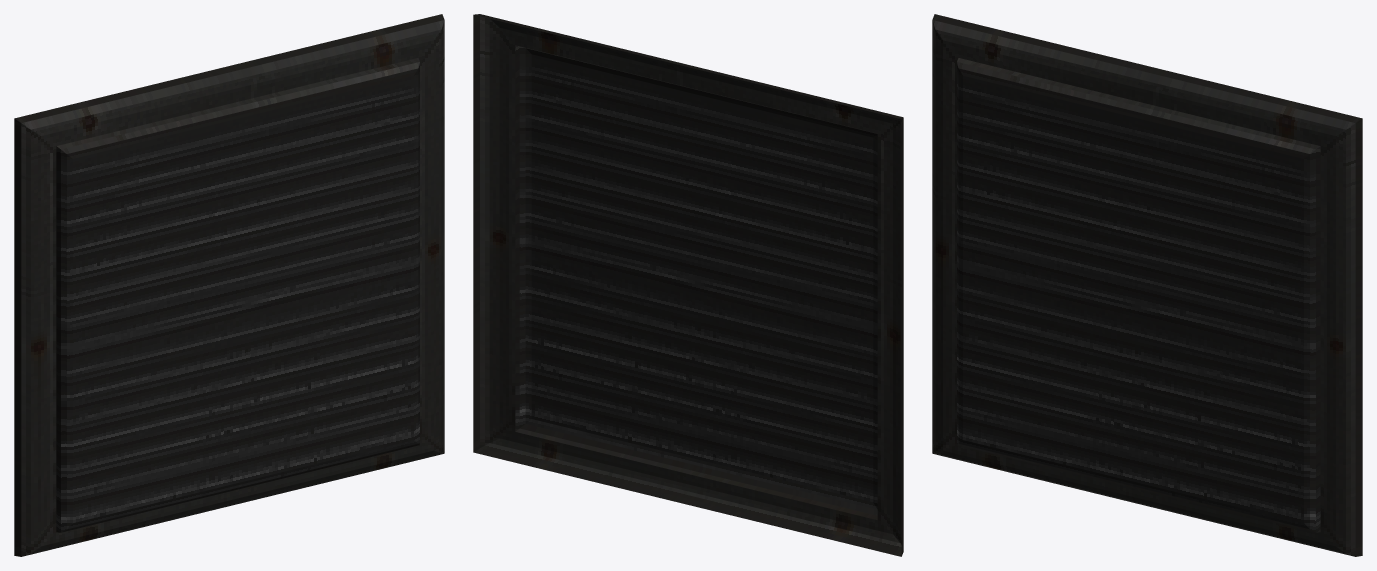
The model's file is vent_2.glb.
3 views of the same model, side by side, from view 1: azimuth 30°, elevation 25°; view 2: azimuth 150°, elevation 25°; view 3: azimuth 330°, elevation 25° (orthographic).
Parts seen in each view (by area): view 1: vent_2; view 2: vent_2; view 3: vent_2.
Part boxes in pixels (x1,y1,x2,y2): vent_2: (14,14,444,556); vent_2: (473,14,903,556); vent_2: (932,14,1362,556).
Size of the model in its own units: 0.8192 by 0.8 by 0.05.
1 material, 1 textured.
